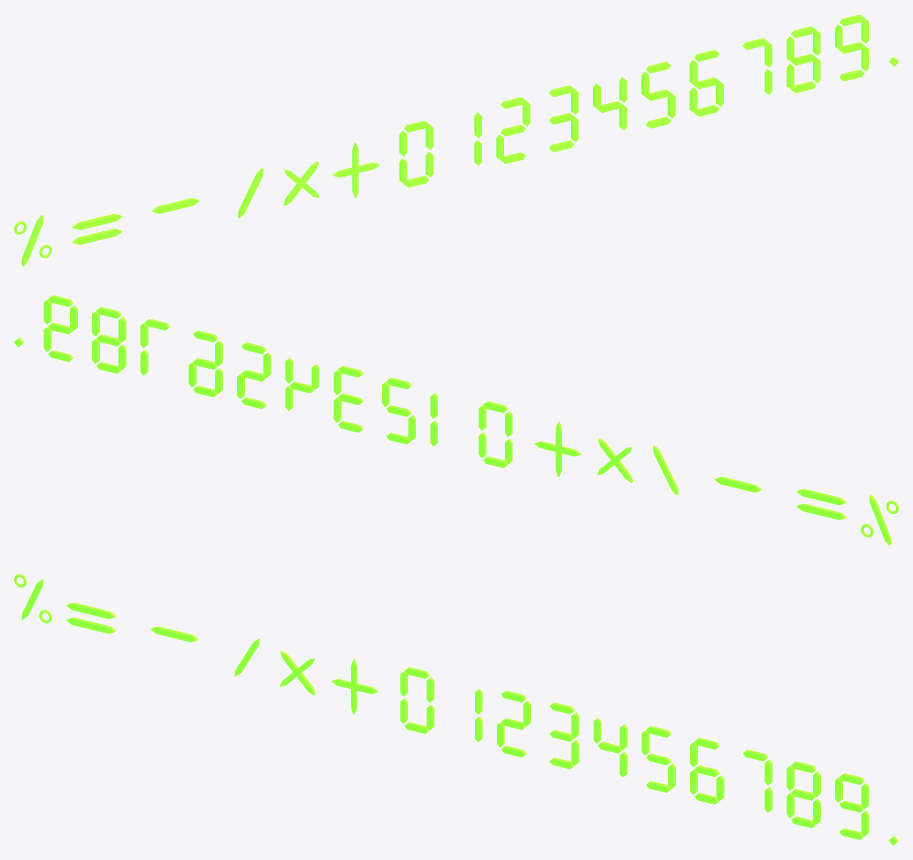
Rendered from numbers.glb.
The picture shows the model from 3 angles, top to bottom: view 1: azimuth 30°, elevation 25°; view 2: azimuth 150°, elevation 25°; view 3: azimuth 330°, elevation 25°; orthographic projection.
Parts seen in each view (by area): view 1: 8, 0, 6, 9, 5, 2, 3, =, 4, +, %, * (+1 smaller); view 2: 8, 9, 0, 6, 3, 5, 2, 4, =, +, %, * (+1 smaller); view 3: 8, 9, 0, 6, 3, 5, 2, 4, =, +, 7, *.
Part boxes in pixels (x1,y1,x2,y2): 8: (786,26,820,92); 0: (399,120,433,187); 6: (689,50,723,116); 9: (835,14,868,81); 5: (641,61,675,128); 2: (496,97,530,163); 3: (549,85,578,151); =: (72,213,122,244); 4: (593,77,627,130); +: (333,142,379,198); %: (14,215,51,266); *: (283,161,319,205); 8: (92,307,126,373); 9: (43,295,77,361); 0: (478,401,512,467); 6: (188,330,222,397); 3: (333,366,363,432); 5: (237,342,271,408); 2: (382,377,415,444); 4: (285,357,319,410); =: (796,489,846,519); +: (535,421,580,477); %: (861,494,898,545); *: (597,438,633,482); 8: (786,761,820,828); 9: (835,773,869,839); 0: (400,667,434,733); 6: (690,738,724,804); 3: (549,702,579,769); 5: (641,726,675,792); 2: (497,690,530,757); 4: (593,717,627,777); =: (66,602,116,633); +: (331,658,377,714); 7: (743,749,772,812); *: (280,651,315,695).
Size of the model in its own units: 269 by 17.8 by 2.9.
